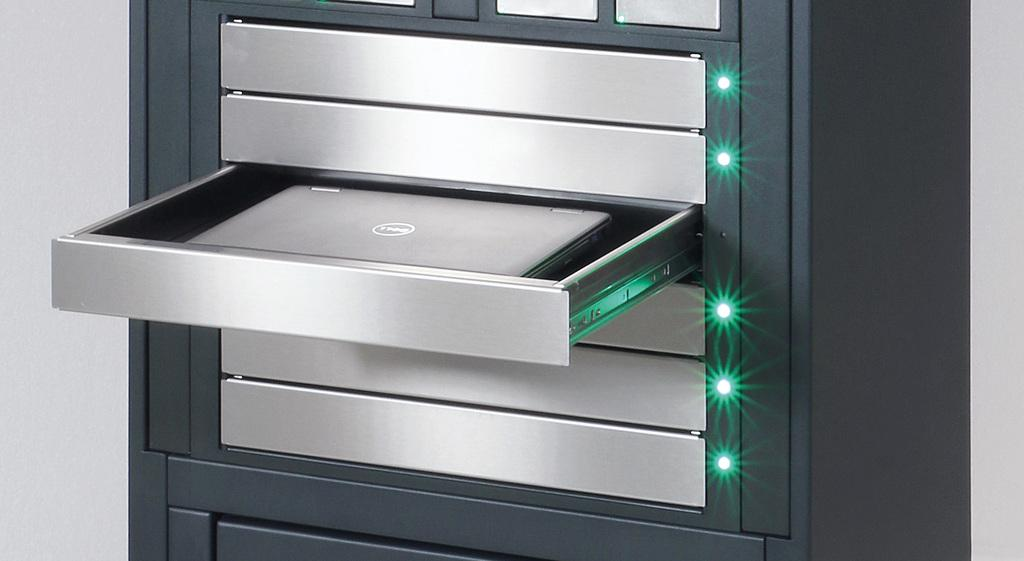cabinet_door: (48, 236, 590, 358), (218, 371, 712, 497), (216, 92, 717, 196), (214, 325, 716, 426), (225, 30, 701, 118)
